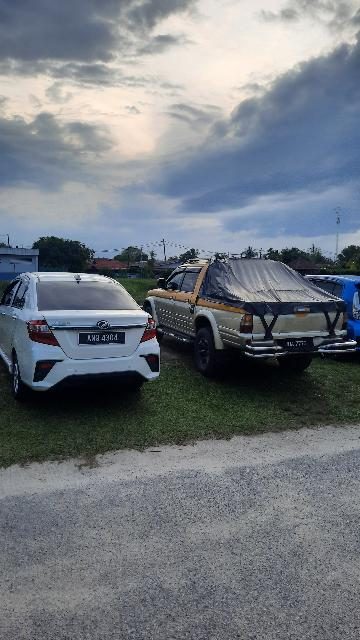License_Plate: (77, 328, 128, 346), (278, 339, 316, 352)
car: (146, 258, 360, 381), (2, 269, 169, 405)
